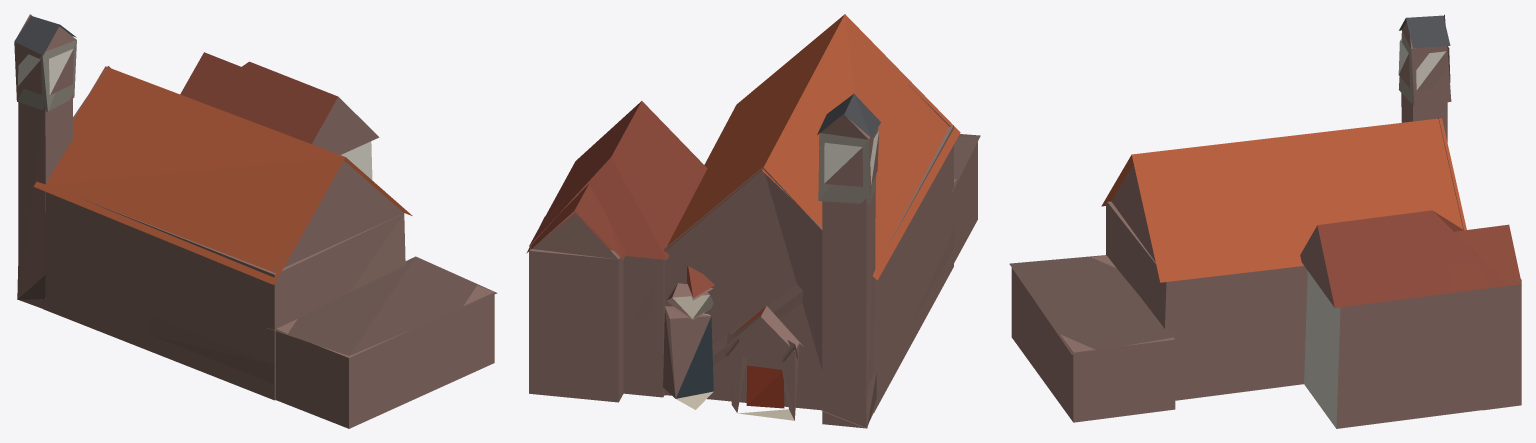
File: petrus-en-paulus-kerk.lod2.glb
3 renders of one model, left to right at view 1: azimuth 30°, elevation 25°; view 2: azimuth 150°, elevation 25°; view 3: azimuth 270°, elevation 25°, orthographic. The views are drawn at different scales.
Visible parts, largest first — view 1: lod2; view 2: lod2; view 3: lod2.
Boxes of the visible parts, x1=… form: lod2: x1=14, y1=14, x2=497, y2=428; lod2: x1=526, y1=14, x2=980, y2=428; lod2: x1=1009, y1=14, x2=1521, y2=428.
Size of the model in its own units: 24.58 by 20.94 by 35.19.
